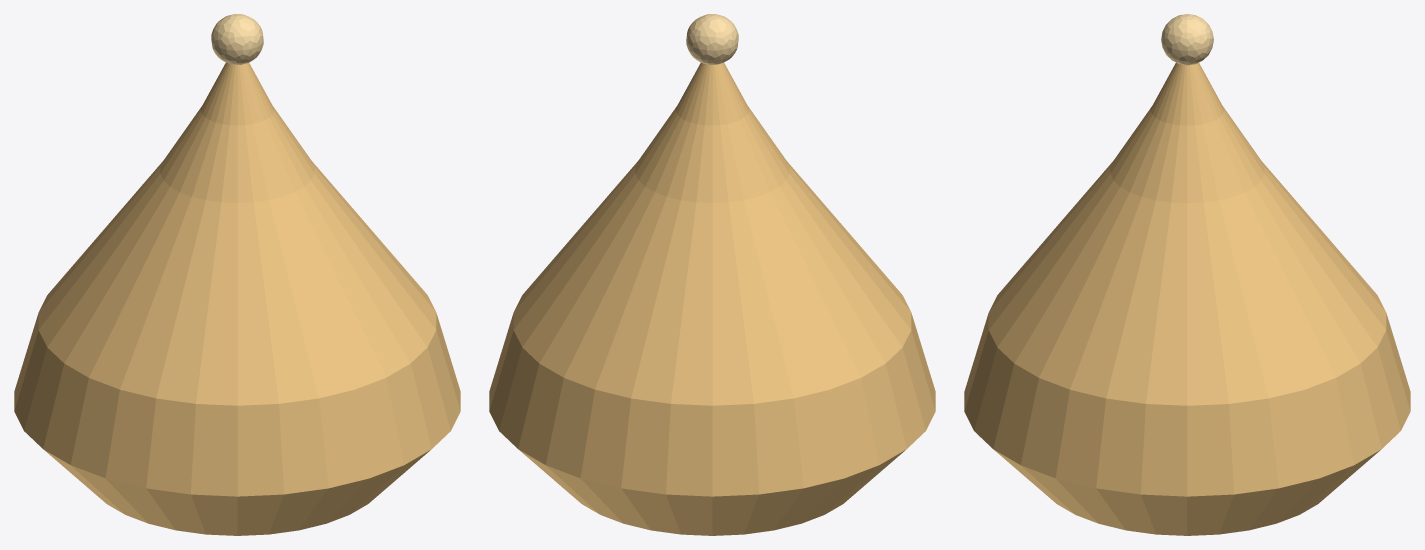
Rendered from coxinha.glb.
The picture shows the model from 3 angles, left to right: view 1: azimuth 30°, elevation 25°; view 2: azimuth 150°, elevation 25°; view 3: azimuth 270°, elevation 25°; orthographic projection.
Visible parts, largest first — view 1: Coxinha; view 2: Coxinha; view 3: Coxinha.
Boxes of the visible parts, x1,y1,x2,y2 form: Coxinha: (14, 14, 460, 535); Coxinha: (489, 14, 935, 535); Coxinha: (964, 14, 1410, 535).
Size of the model in its own units: 0.55 by 0.6164 by 0.547.
